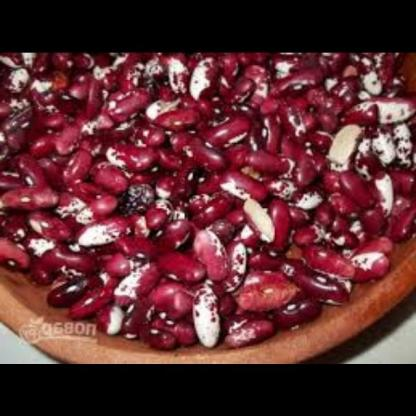fasol: (0, 52, 416, 348)
